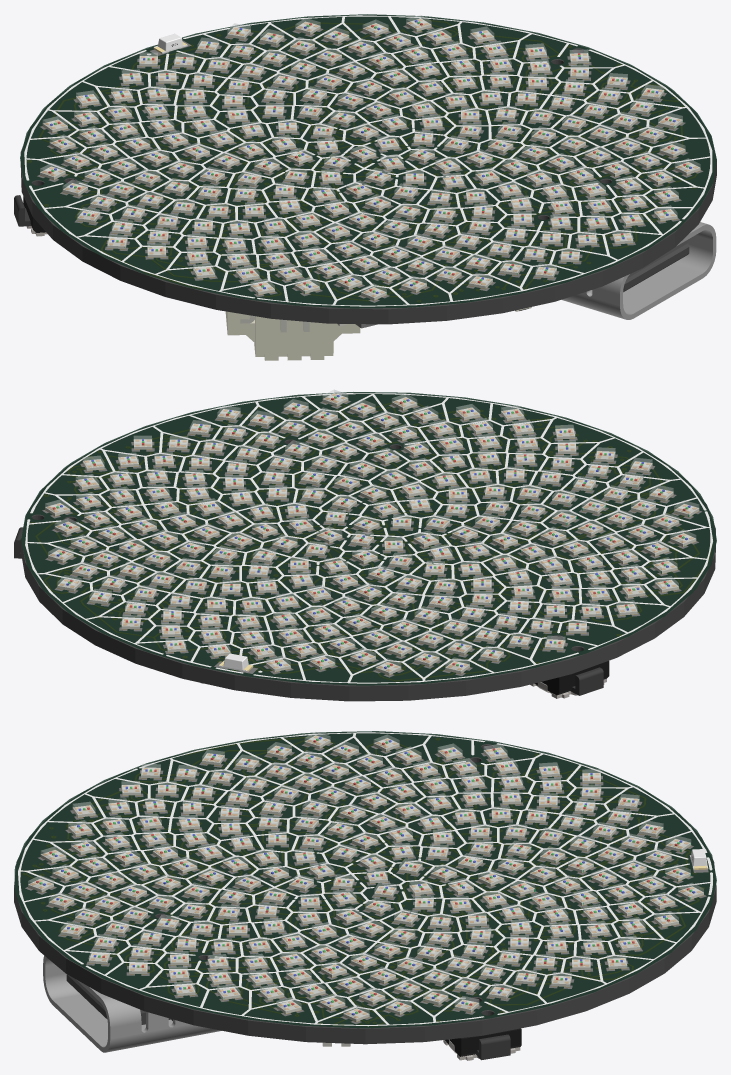
File: board.glb
The picture shows the model from 3 angles, top to bottom: view 1: azimuth 30°, elevation 25°; view 2: azimuth 150°, elevation 25°; view 3: azimuth 270°, elevation 25°; orthographic projection.
Visible parts, largest first — view 1: round-pendant_soldermask, round-pendant_PCB, round-pendant_silkscreen, round-pendant_pad, USB-C-SMD_TYPE-C-31-M-22, round-pendant_copper, Molex_PicoBlade_53261-0271_1x02-1MP_P1.25mm_Horizontal, SW-SMD_EVQP7C01P-L3.6-W3.5-H1.4-P3.6-LS4.7; view 2: round-pendant_soldermask, round-pendant_PCB, round-pendant_silkscreen, round-pendant_pad, round-pendant_copper, SW-SMD_EVQP7C01P-L3.6-W3.5-H1.4-P3.6-LS4.7; view 3: round-pendant_soldermask, round-pendant_PCB, round-pendant_silkscreen, round-pendant_pad, USB-C-SMD_TYPE-C-31-M-22, round-pendant_copper, SW-SMD_EVQP7C01P-L3.6-W3.5-H1.4-P3.6-LS4.7.
Boxes of the visible parts, x1,y1,x2,y2 form: round-pendant_soldermask: (20,14,716,308); round-pendant_PCB: (20,15,716,324); round-pendant_silkscreen: (24,15,712,306); round-pendant_pad: (37,25,703,302); USB-C-SMD_TYPE-C-31-M-22: (561,222,716,319); round-pendant_copper: (27,21,696,301); Molex_PicoBlade_53261-0271_1x02-1MP_P1.25mm_Horizontal: (225,311,360,360); SW-SMD_EVQP7C01P-L3.6-W3.5-H1.4-P3.6-LS4.7: (14,195,47,236); round-pendant_soldermask: (21,392,716,685); round-pendant_PCB: (21,394,715,701); round-pendant_silkscreen: (25,393,712,683); round-pendant_pad: (42,400,701,677); round-pendant_copper: (31,403,711,680); SW-SMD_EVQP7C01P-L3.6-W3.5-H1.4-P3.6-LS4.7: (530,661,609,698); round-pendant_soldermask: (14,731,716,1028); round-pendant_PCB: (14,734,716,1044); round-pendant_silkscreen: (18,732,712,1026); round-pendant_pad: (25,742,708,1024); USB-C-SMD_TYPE-C-31-M-22: (43,955,221,1052); round-pendant_copper: (23,737,704,1024); SW-SMD_EVQP7C01P-L3.6-W3.5-H1.4-P3.6-LS4.7: (443,1028,521,1060).
Bounding box in the file's own units: 0.038 × 0.00507 × 0.038.
